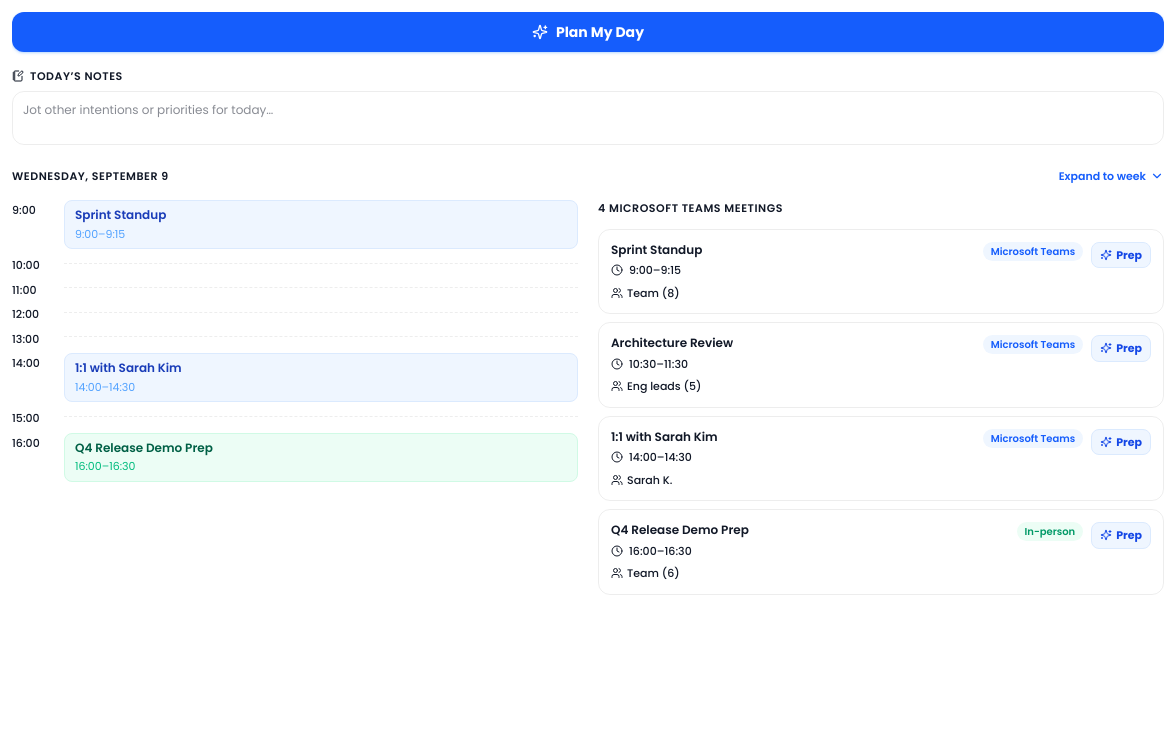
Test: CalendarWidget — week view › returns to the single-day timeline when collapsed again
Click the button "Expand to week" at (1111, 176), box 1059,168 -> 1164,184
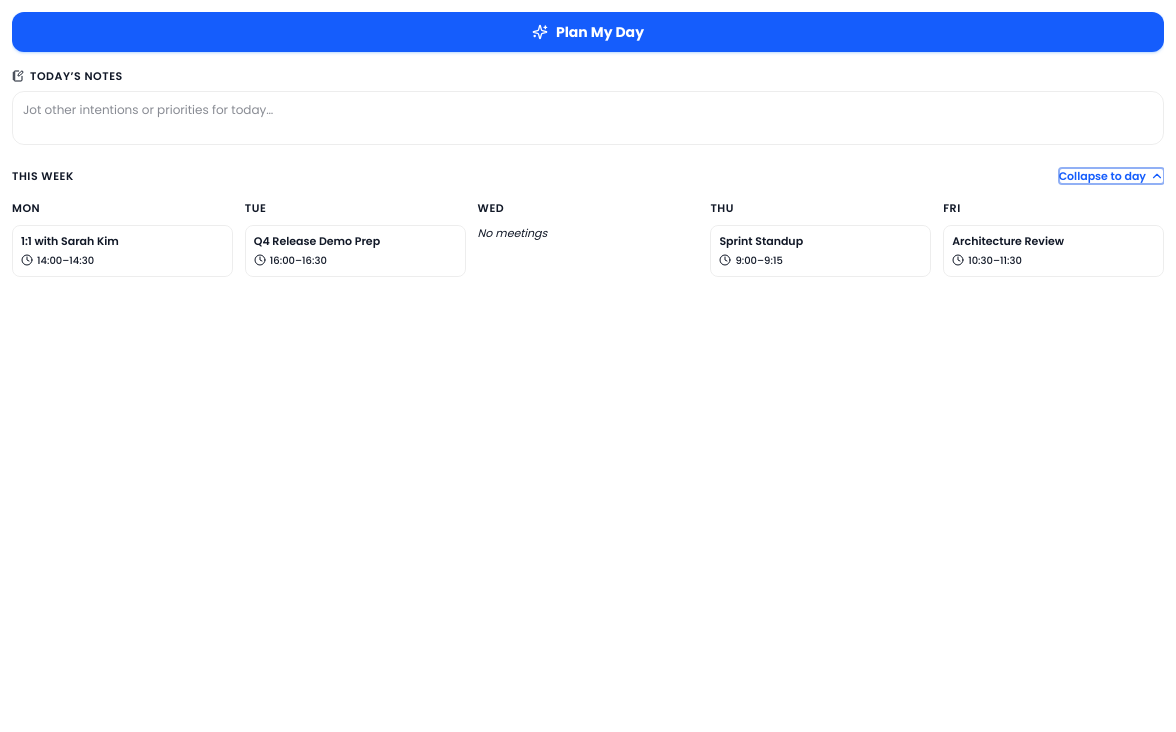
Click the button "Collapse to day" at (1111, 176), box 1059,168 -> 1164,184
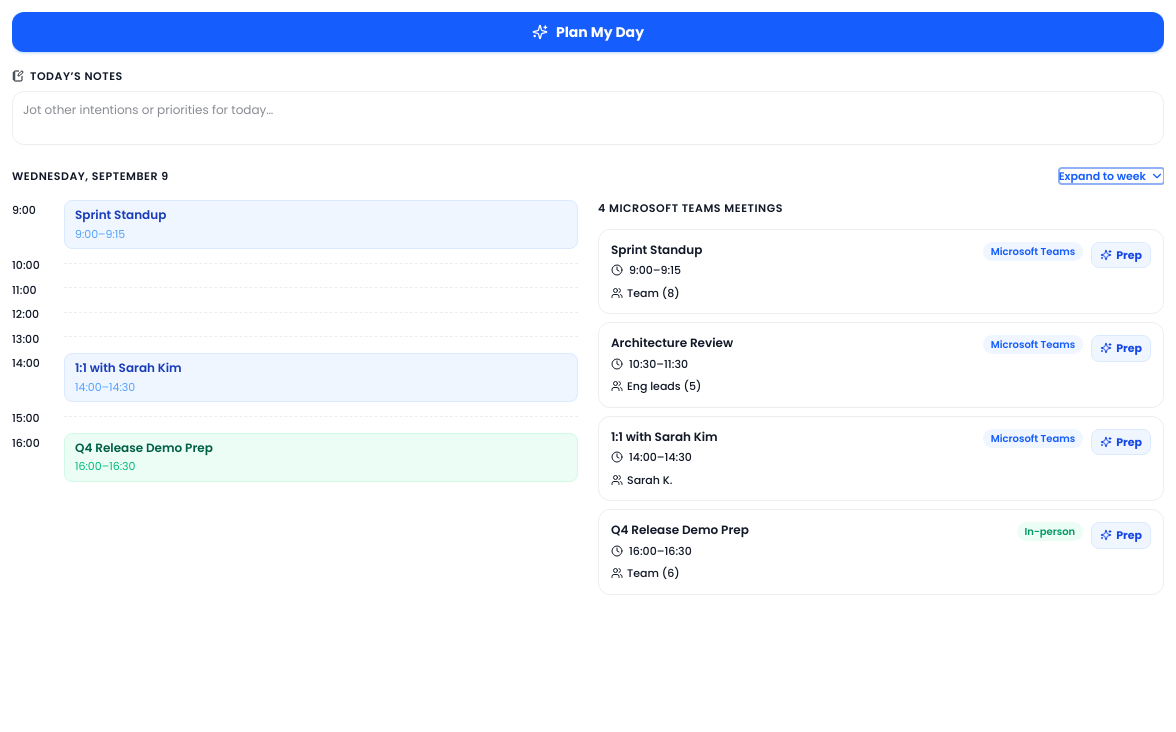
Check: the text "Mon" is gone
Check: the text "4 Microsoft Teams Meetings" is shown, box 598,200 -> 783,216
